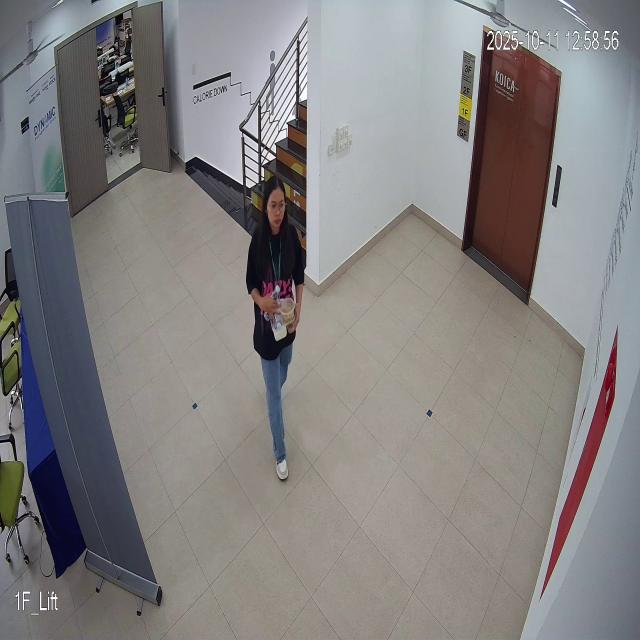face: (262, 173, 288, 234)
